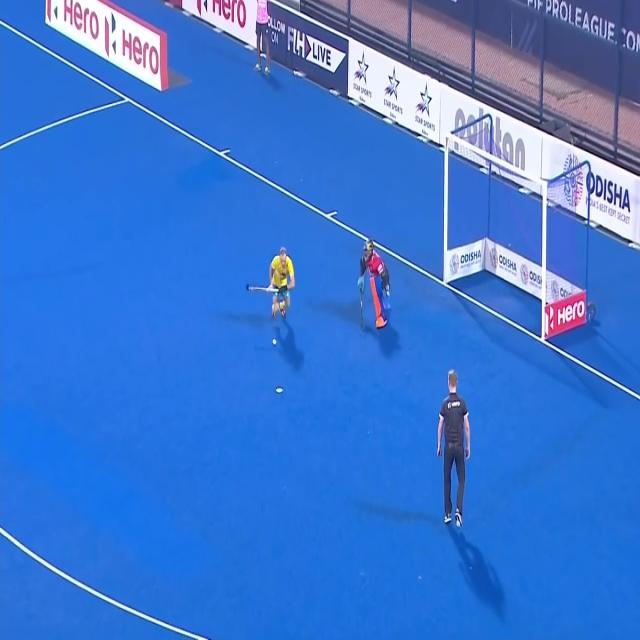ball: (271, 334, 279, 346)
